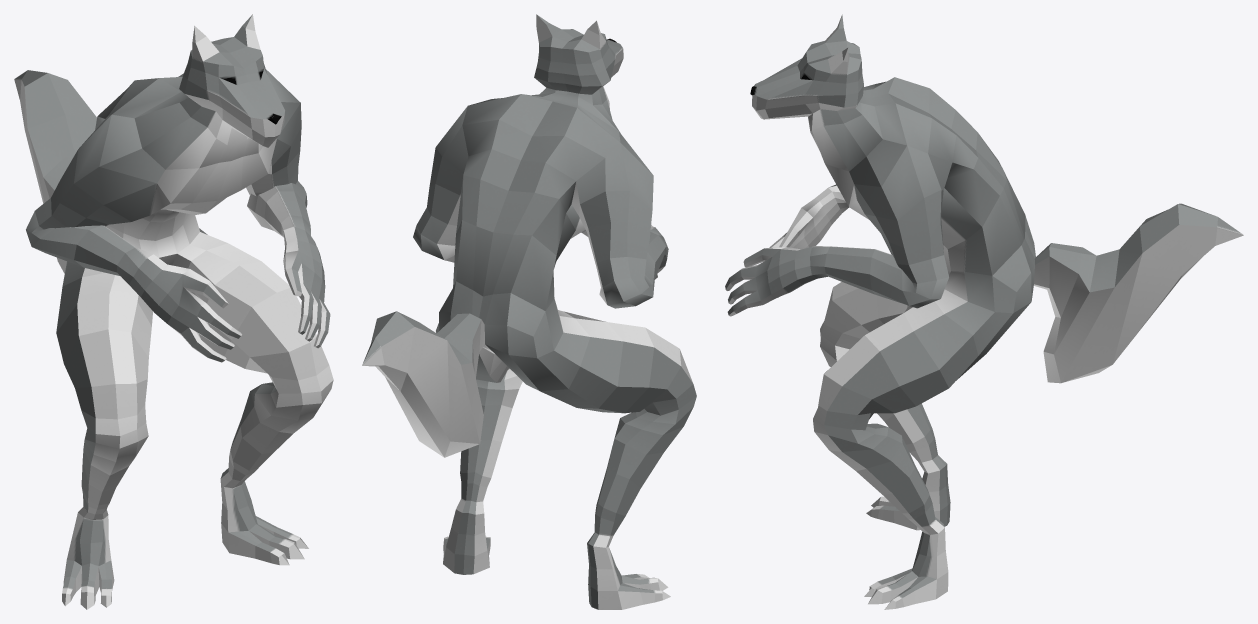
File: WolfIdle_(119).obj
3 views of the same model, side by side, from view 1: azimuth 30°, elevation 25°; view 2: azimuth 150°, elevation 25°; view 3: azimuth 270°, elevation 25° (orthographic). The views are drawn at different scales.
Parts seen in each view (by area): view 1: Box001; view 2: Box001; view 3: Box001.
Part boxes in pixels (x1=…): Box001: x1=14, y1=14, x2=333, y2=609; Box001: x1=362, y1=14, x2=696, y2=609; Box001: x1=725, y1=14, x2=1243, y2=609.
Size of the model in its own units: 62.24 by 131 by 115.
